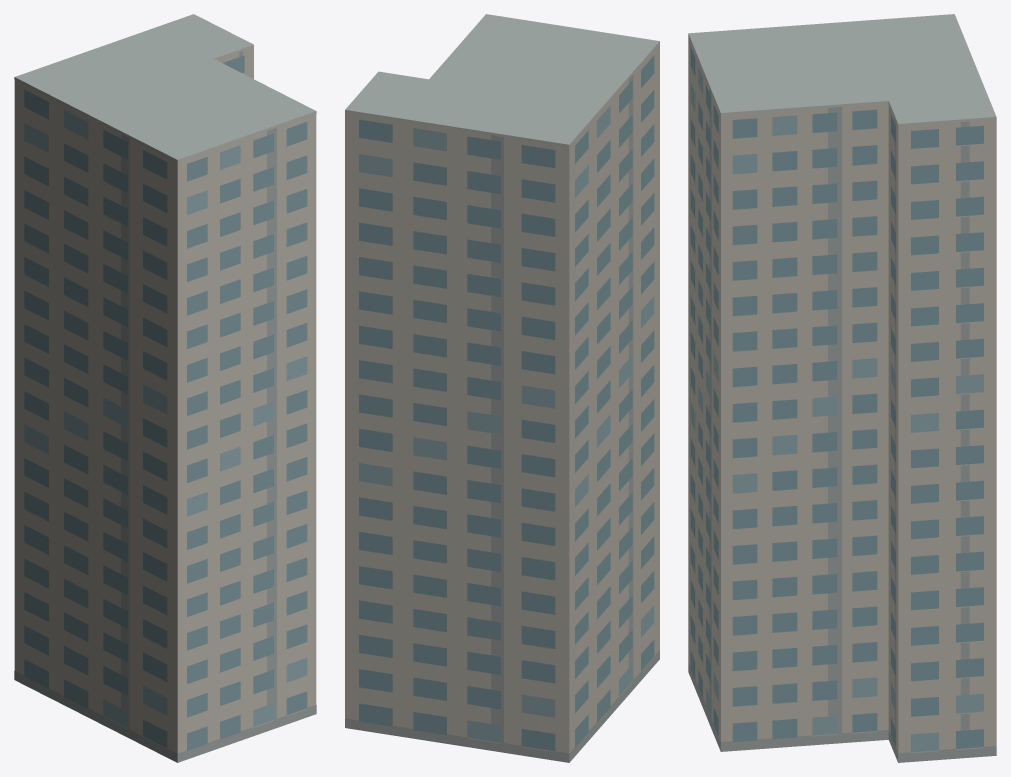
Rendered from residential-3c943d22-b4b1-4f66-9d5a-0144842b7379.glb.
3 views of the same model, side by side, from view 1: azimuth 30°, elevation 25°; view 2: azimuth 150°, elevation 25°; view 3: azimuth 270°, elevation 25° (orthographic). The views are drawn at different scales.
Parts seen in each view (by area): view 1: residential-3c943d22-b4b1-4f66-9d5a-0144842b7379.tmp; view 2: residential-3c943d22-b4b1-4f66-9d5a-0144842b7379.tmp; view 3: residential-3c943d22-b4b1-4f66-9d5a-0144842b7379.tmp.
Boxes of the visible parts, <box> form: residential-3c943d22-b4b1-4f66-9d5a-0144842b7379.tmp: <box>14,14,316,762</box>; residential-3c943d22-b4b1-4f66-9d5a-0144842b7379.tmp: <box>345,14,659,762</box>; residential-3c943d22-b4b1-4f66-9d5a-0144842b7379.tmp: <box>688,14,996,762</box>.
Size of the model in its own units: 22.18 by 60 by 26.24.
